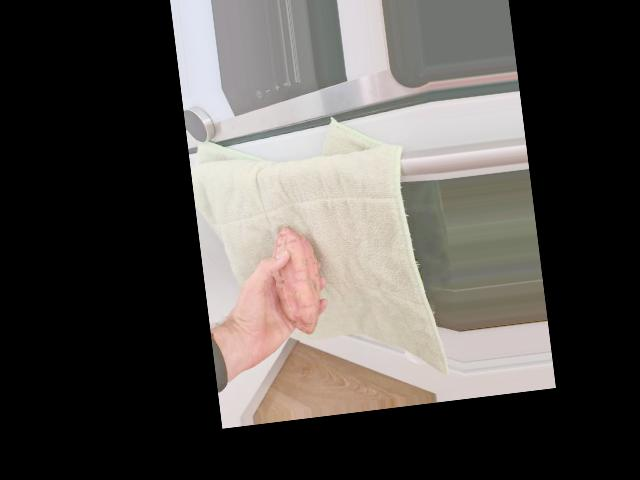sweet_potato: (265, 225, 324, 340)
